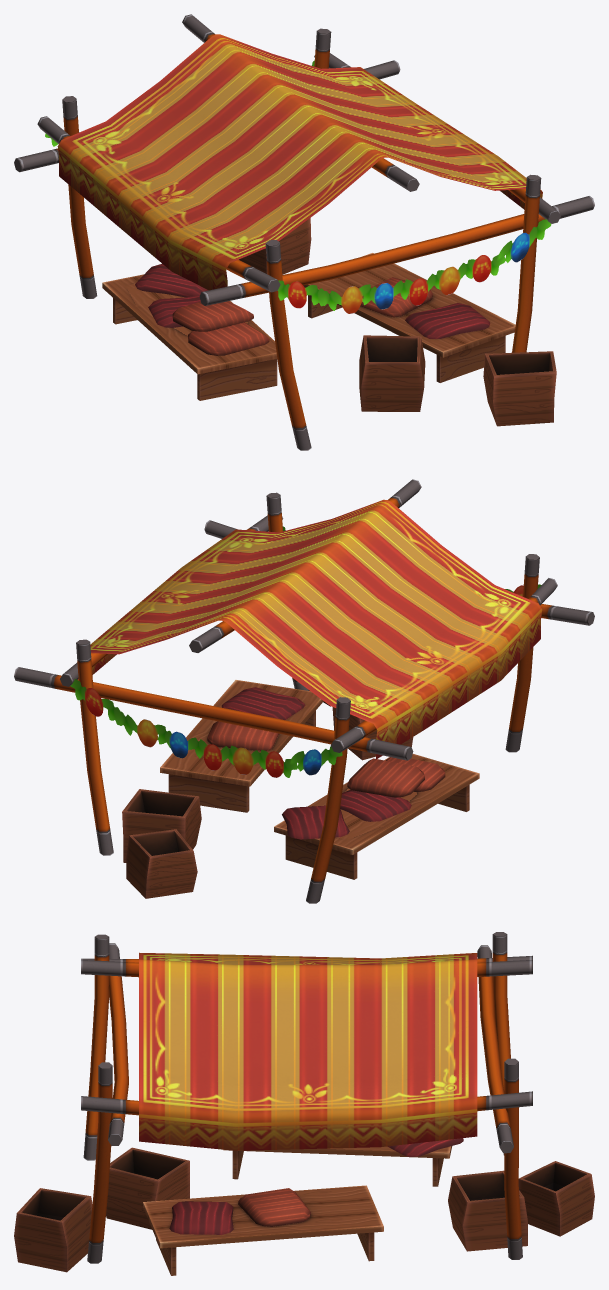
File: Market_01_F.FBX
The picture shows the model from 3 angles, top to bottom: view 1: azimuth 30°, elevation 25°; view 2: azimuth 150°, elevation 25°; view 3: azimuth 270°, elevation 25°; orthographic projection. The views are drawn at different scales.
Parts seen in each view (by area): view 1: Market_01, Egg_Rope_Market_1; view 2: Market_01, Egg_Rope_Market_1; view 3: Market_01.
Part boxes in pixels (x1,y1,x2,y2): Market_01: [14, 14, 594, 450]; Egg_Rope_Market_1: [45, 60, 551, 313]; Market_01: [14, 479, 594, 903]; Egg_Rope_Market_1: [70, 526, 541, 777]; Market_01: [14, 932, 594, 1275].
Size of the model in its own units: 153 by 92.69 by 196.
